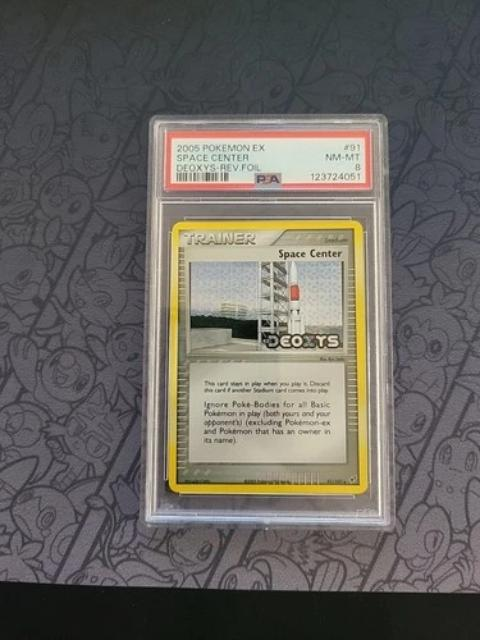Card: (164, 216, 371, 498)
Name: (273, 245, 346, 262)
